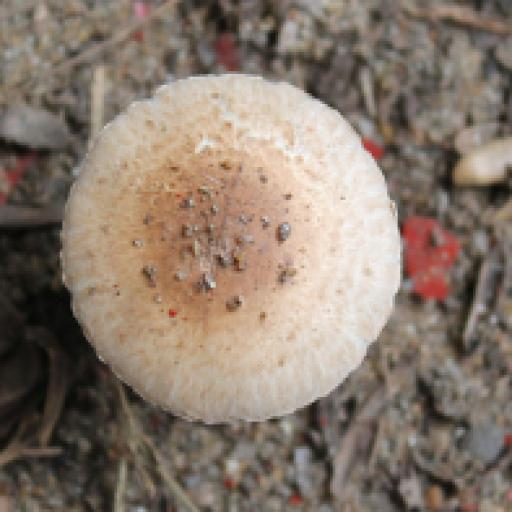Button Mushroom: (58, 67, 404, 429)
